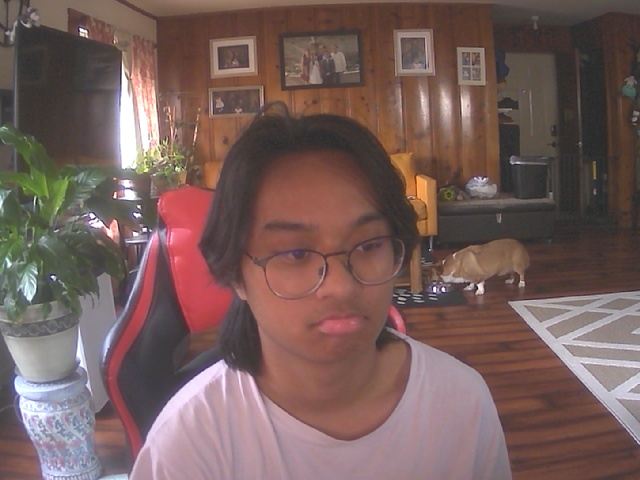sad: (225, 124, 420, 373)
